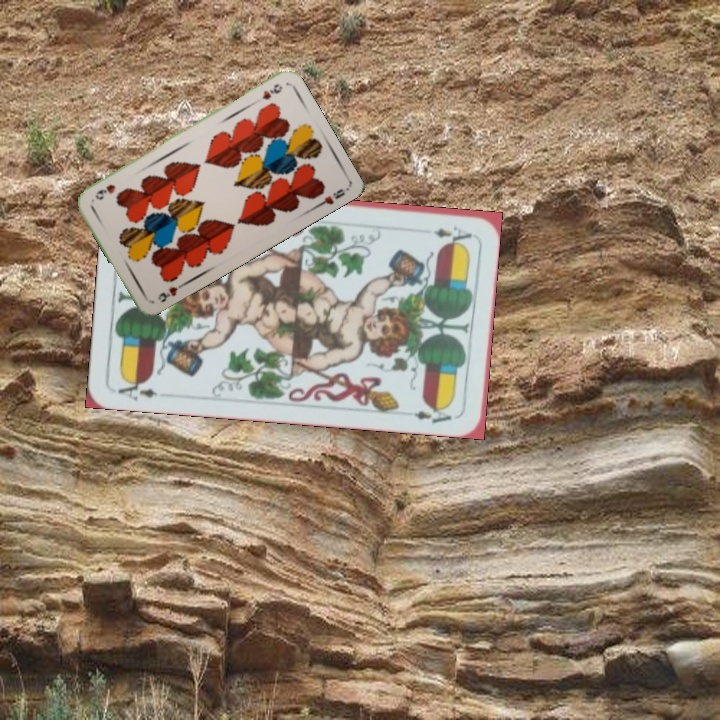EA: (113, 375, 160, 403), (429, 222, 474, 243)
H9: (153, 279, 186, 305), (258, 79, 285, 102)
